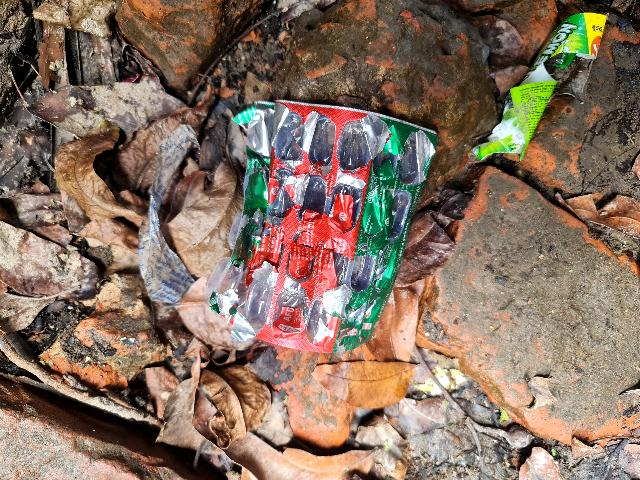medicine: (212, 84, 435, 374)
